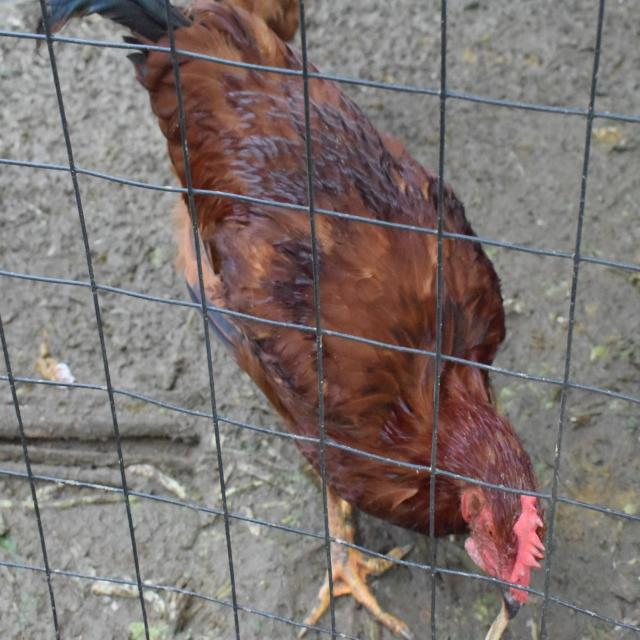cook: (48, 0, 545, 635)
